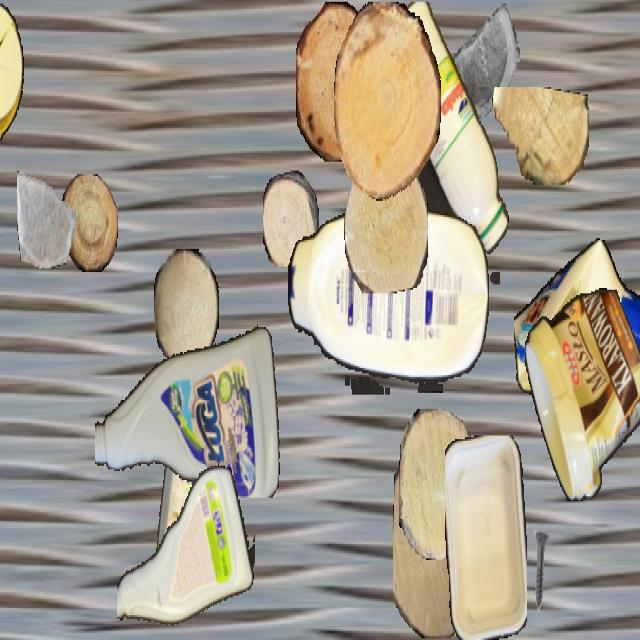glass: (448, 2, 520, 130), (17, 164, 75, 266)
metal: (458, 439, 518, 546), (516, 528, 564, 613), (0, 279, 8, 357)
plastic: (288, 210, 488, 394), (380, 1, 510, 282), (95, 313, 283, 498), (117, 457, 255, 638), (524, 288, 640, 501), (514, 237, 640, 407), (445, 436, 527, 638), (151, 386, 217, 602), (0, 2, 24, 140)
wood: (334, 2, 440, 201), (393, 439, 481, 638), (296, 2, 378, 162), (344, 150, 428, 292), (399, 409, 479, 558), (491, 87, 589, 183), (154, 249, 218, 363), (61, 174, 117, 270), (263, 170, 319, 266)
